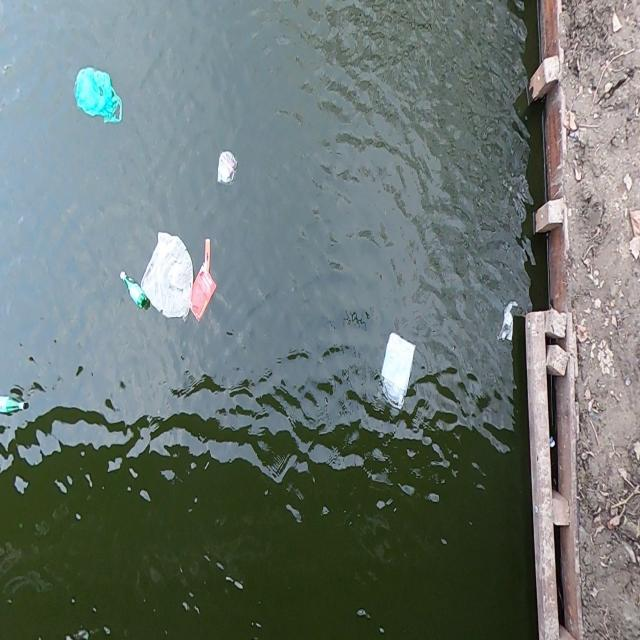Autre plastique: (188, 221, 223, 328)
Bouteille plastique: (116, 263, 152, 321), (0, 383, 30, 418)
Sac plastique: (138, 217, 196, 320), (68, 65, 127, 132), (214, 148, 245, 193), (497, 296, 520, 348)
